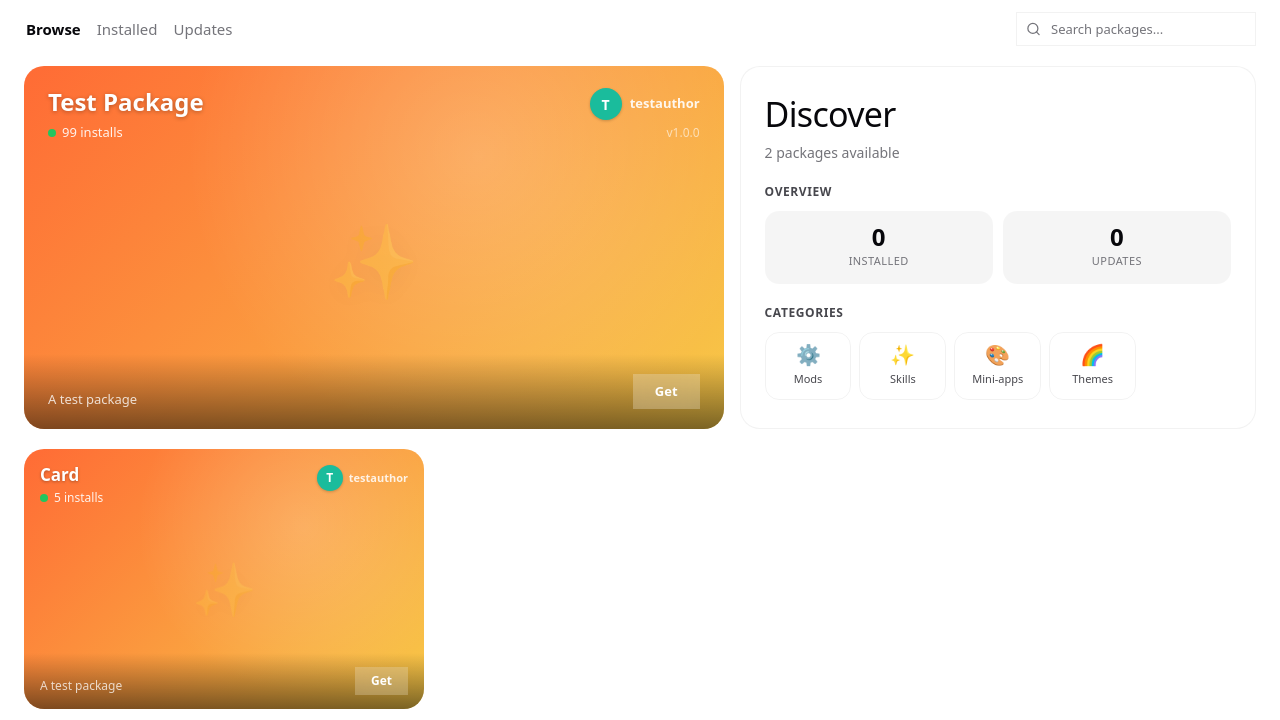
Test case: PackageDetail › shows loading state when package is not yet loaded
Click the element with class "store-card" at (224, 579), box x1=24 y1=449 x2=424 y2=709
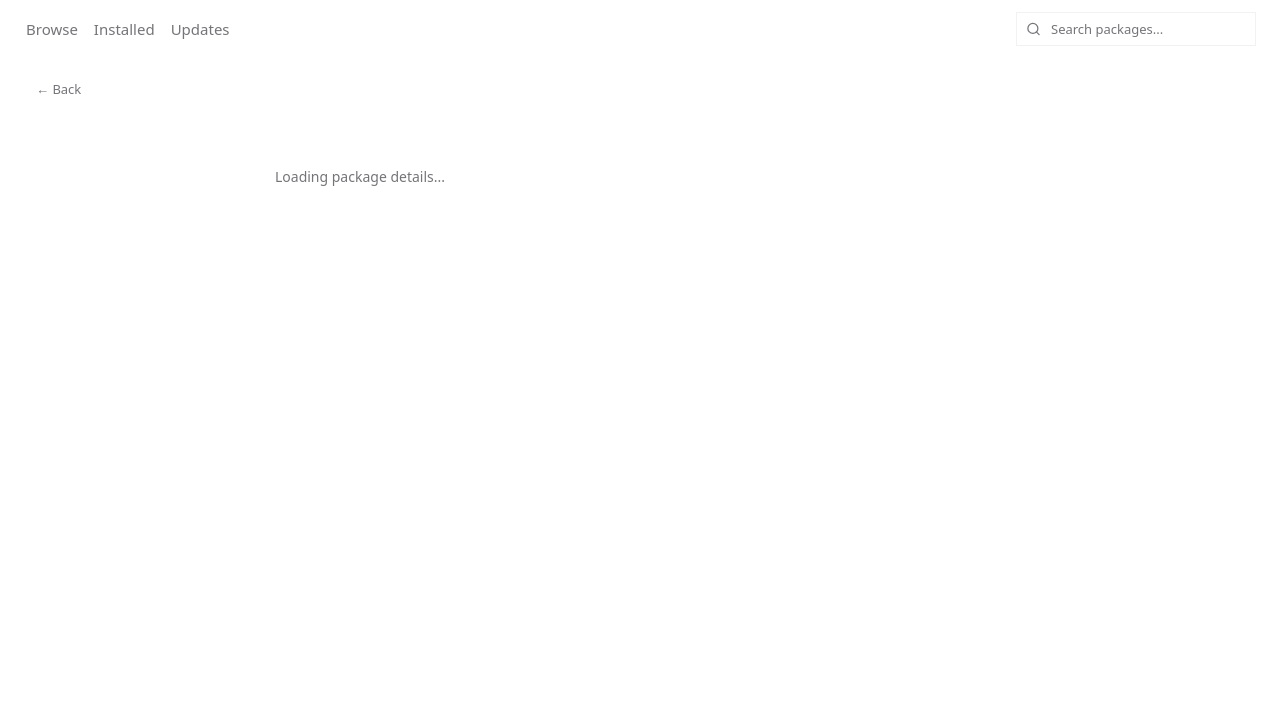
Now the text "Loading package details..." is shown, box x1=275 y1=166 x2=445 y2=186
